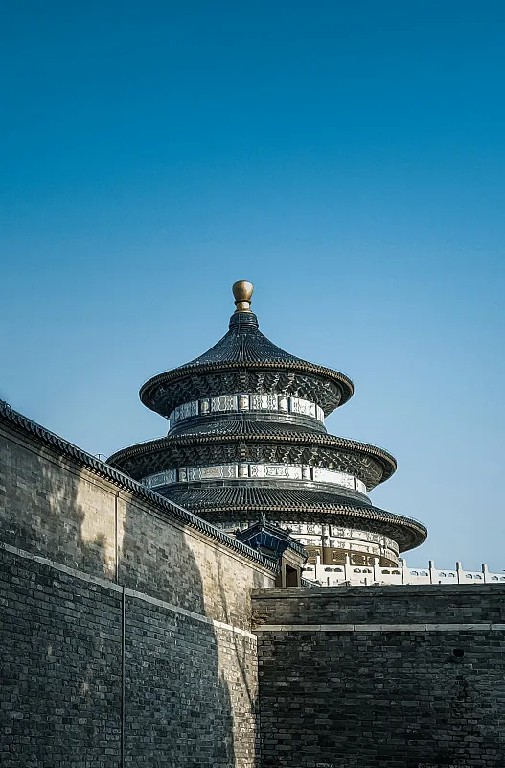Heaven: (100, 279, 426, 571)
